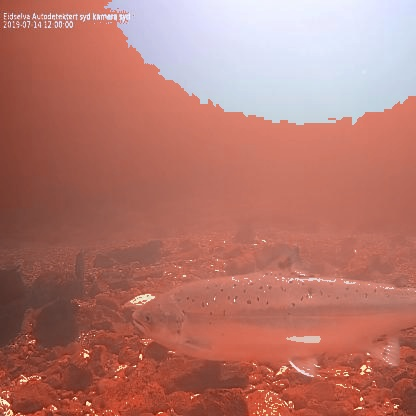salmon: (127, 242, 416, 380)
